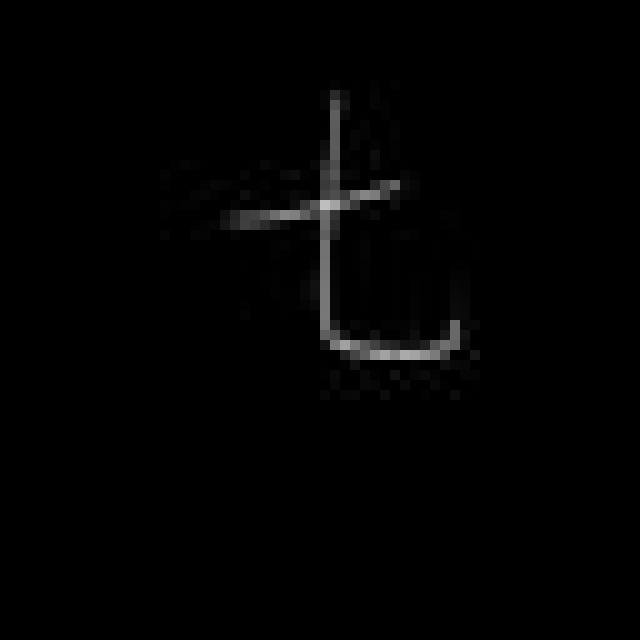7 -seven-: (228, 90, 474, 374)
